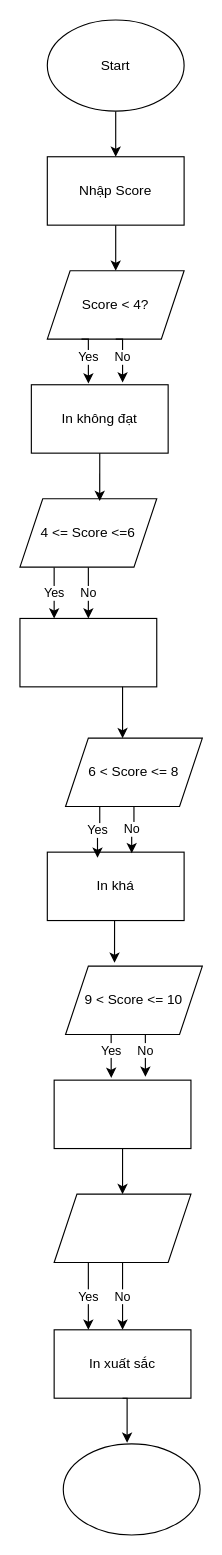
The diagram is 222 pixels wide and 1555 high, and some of its shapes have lost their labels. Here are the shapes that lost their labels. From the top down, the centre of each, then its label:
At point 88,652: "In trung bình".
At point 122,1114: "In giỏi".
At point 122,1228: "8 < Score <= 9".
At point 131,1489: "END".
